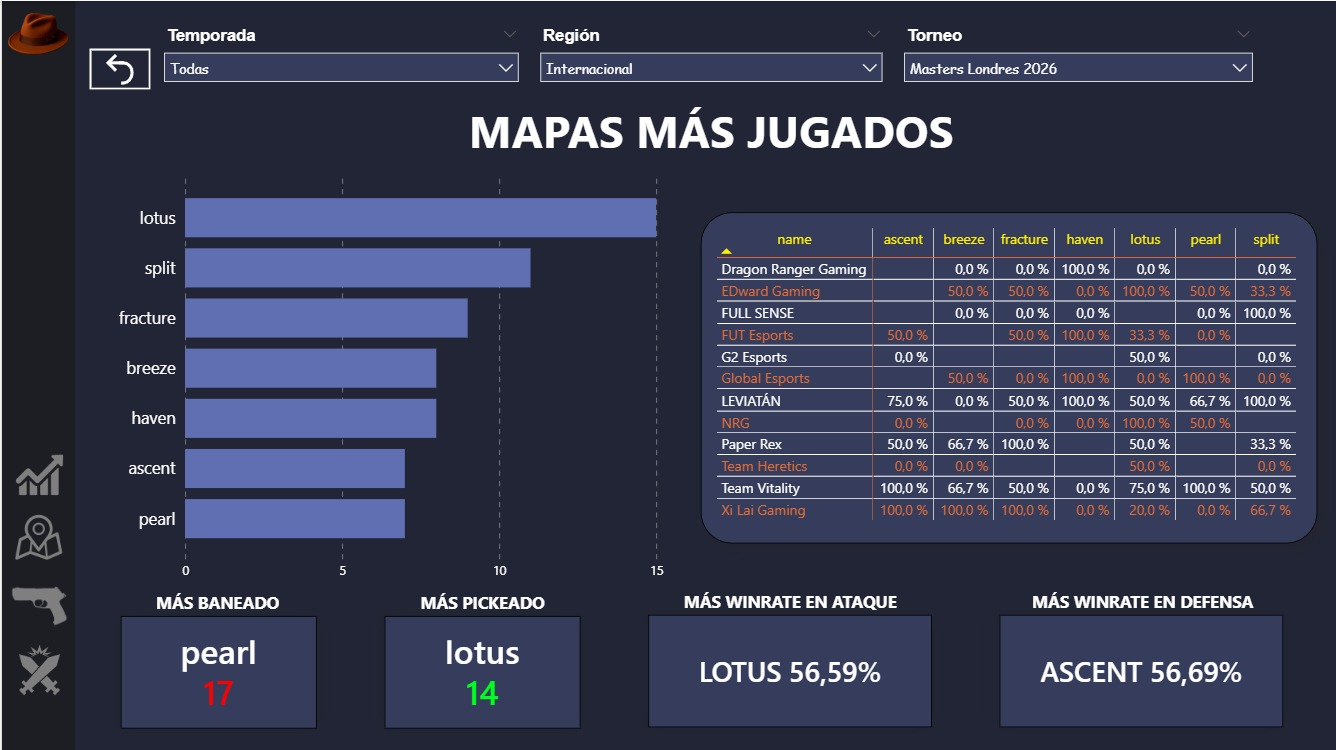

The page's visual inventory and layout, read from the dashboard file:
{"tool":"powerbi","page":{"name":"Mapas","canvas":[1280,720],"ordinal":1},"visuals":[{"type":"shape","box":[0,0,70.7,720.3],"z":0},{"type":"image","box":[0,0,70.7,68.3],"z":1000},{"type":"image","box":[13.2,431.5,45.5,45.5],"z":2000},{"type":"image","box":[10.8,486.6,49.1,55.1],"z":3000},{"type":"image","box":[8.4,541.7,55.1,76.7],"z":4000},{"type":"image","box":[6,598.1,59.9,89.9],"z":5000},{"type":"slicer","fields":{"Values":["competitions.season"]},"box":[145,19.2,360.7,82.7],"z":6000},{"type":"slicer","fields":{"Values":["competitions.region"]},"box":[505.8,19.2,348.8,93.5],"z":7000},{"type":"slicer","fields":{"Values":["competitions.name"]},"box":[854.5,19.2,354.8,82.7],"z":8000},{"type":"textbox","box":[274.5,98.3,811.4,73.1],"z":9000},{"type":"barChart","fields":{"Category":["vw_map_stats.map_name"],"Y":["Sum(vw_map_stats.veces_jugado)"]},"box":[128.2,160.6,1105,407.5],"z":10000},{"type":"actionButton","box":[83.9,45.5,58.7,39.6],"z":11000},{"type":"cardVisual","fields":{"Data":["Medidas.Mapa Más Baneado","Medidas.Bans Mapa Más Baneado"]},"box":[113.6,589.7,188.2,107.9],"z":12000},{"type":"textbox","box":[124.6,560.9,164.2,34.8],"z":13000},{"type":"cardVisual","fields":{"Data":["Medidas.Mapa Más Pickeado","Medidas.Picks Mapa Más Pickeado"]},"box":[366.5,589.7,188.2,107.9],"z":14000},{"type":"textbox","box":[378.7,560.9,164.2,34.8],"z":15000},{"type":"cardVisual","fields":{"Data":["Medidas.Mapa Mejor Ataque Texto"]},"box":[619.4,588.5,272.1,107.9],"z":16000},{"type":"textbox","box":[626.8,559.7,257.7,34.8],"z":17000},{"type":"cardVisual","fields":{"Data":["Medidas.Mapa Mejor Defensa Texto"]},"box":[956.1,588.5,272.1,107.9],"z":18000},{"type":"textbox","box":[964.8,559.7,257.7,34.8],"z":19000}]}

Visuals, with their boxes in screenshot pixels (x1, y1, x2, y2), scaled from the page's 1280x720 canvas onto the 1336x750 screenshot:
shape: x1=0, y1=0, x2=74, y2=749
image: x1=0, y1=0, x2=74, y2=71
image: x1=14, y1=449, x2=61, y2=497
image: x1=11, y1=507, x2=63, y2=564
image: x1=9, y1=564, x2=66, y2=644
image: x1=6, y1=623, x2=69, y2=717
slicer - competitions.season: x1=151, y1=20, x2=528, y2=106
slicer - competitions.region: x1=528, y1=20, x2=892, y2=117
slicer - competitions.name: x1=892, y1=20, x2=1262, y2=106
textbox: x1=287, y1=102, x2=1133, y2=179
barChart - vw_map_stats.map_name x Sum(vw_map_stats.veces_jugado): x1=134, y1=167, x2=1287, y2=592
actionButton: x1=88, y1=47, x2=149, y2=89
cardVisual - Medidas.Mapa Más Baneado x Medidas.Bans Mapa Más Baneado: x1=119, y1=614, x2=315, y2=727
textbox: x1=130, y1=584, x2=301, y2=621
cardVisual - Medidas.Mapa Más Pickeado x Medidas.Picks Mapa Más Pickeado: x1=383, y1=614, x2=579, y2=727
textbox: x1=395, y1=584, x2=567, y2=621
cardVisual - Medidas.Mapa Mejor Ataque Texto: x1=646, y1=613, x2=931, y2=725
textbox: x1=654, y1=583, x2=923, y2=619
cardVisual - Medidas.Mapa Mejor Defensa Texto: x1=998, y1=613, x2=1282, y2=725
textbox: x1=1007, y1=583, x2=1276, y2=619
